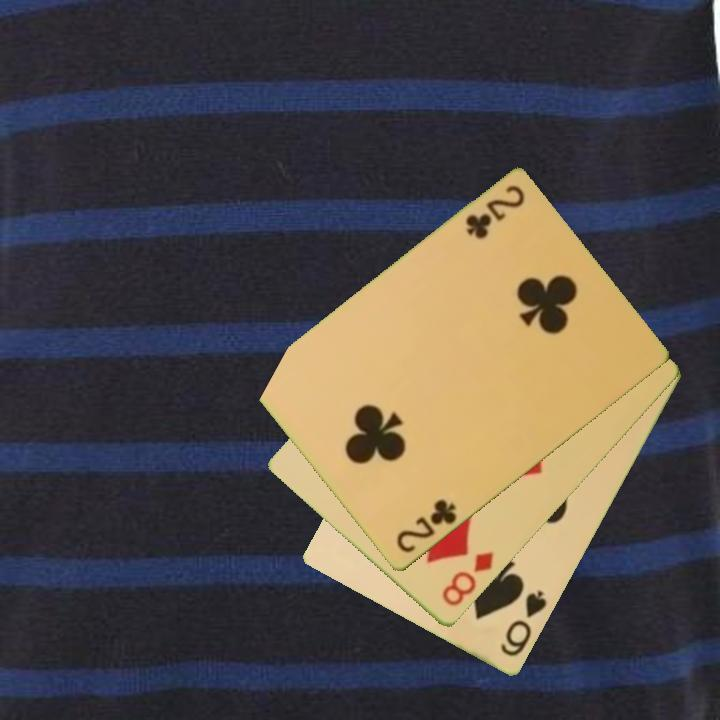2c: (392, 496, 460, 557), (461, 182, 528, 243)
6s: (496, 587, 551, 660)
8d: (438, 548, 497, 610)
